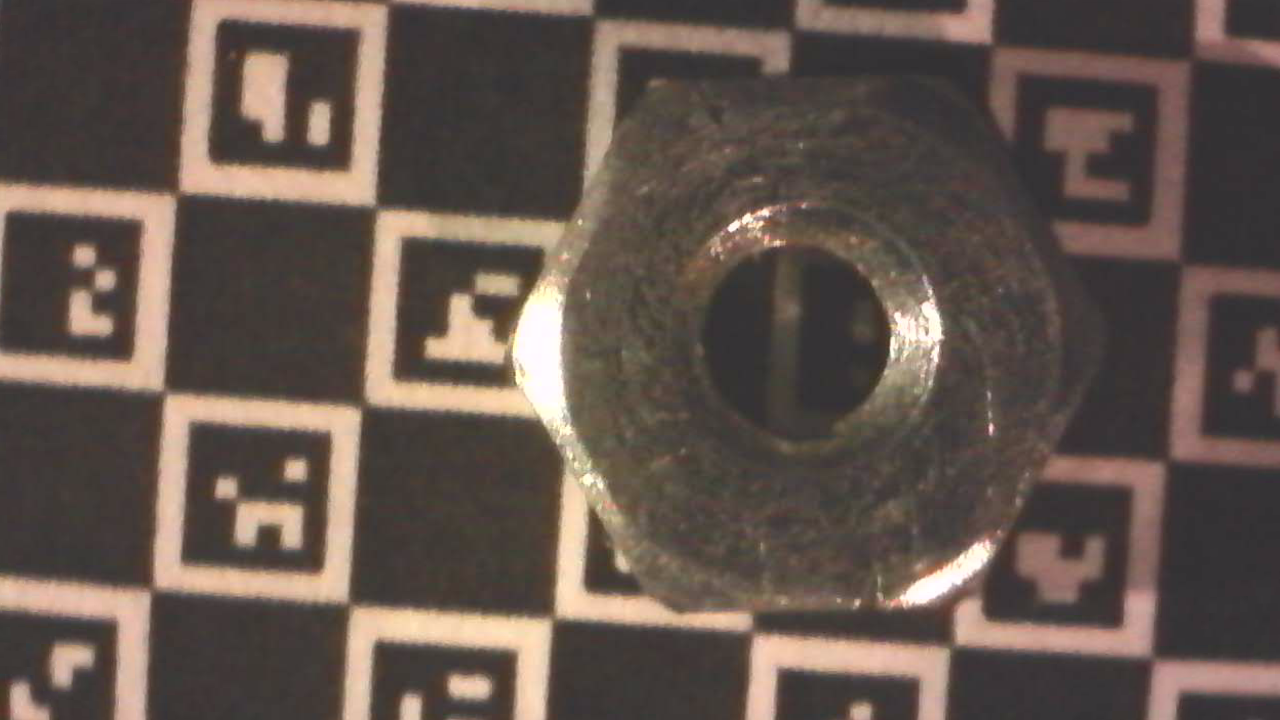Bolt: (503, 72, 1118, 620)
